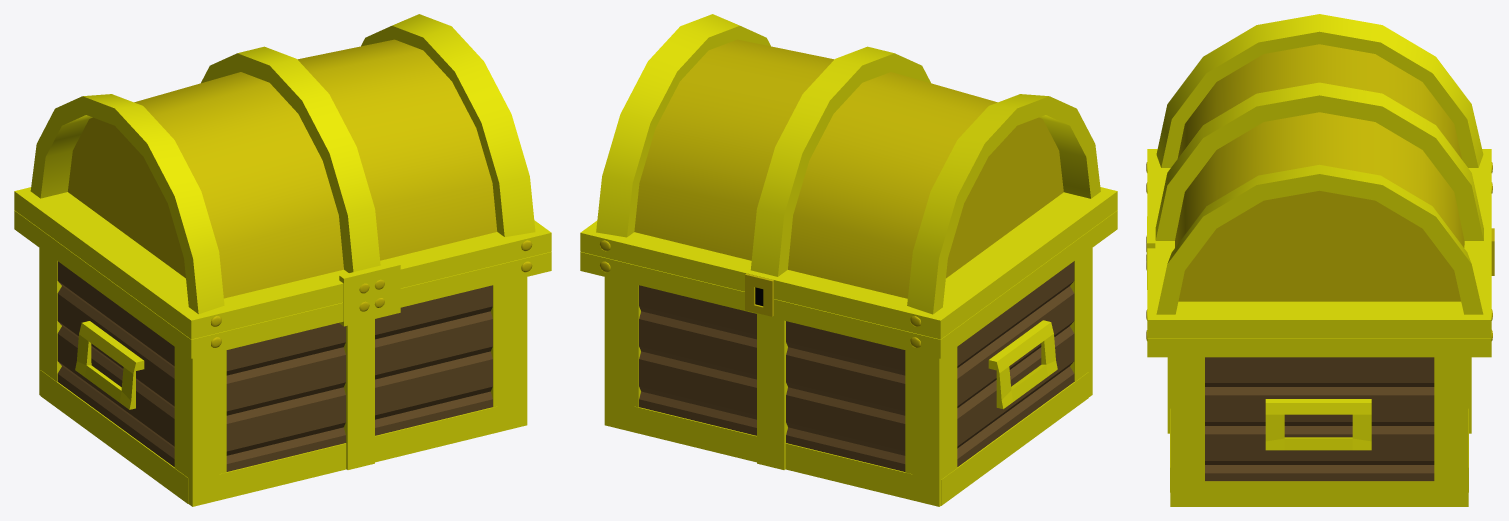
Rendered from sunduk.fbx.
3 renders of one model, left to right at view 1: azimuth 30°, elevation 25°; view 2: azimuth 150°, elevation 25°; view 3: azimuth 270°, elevation 25°, orthographic. The views are drawn at different scales.
Visible parts, largest first — view 1: Icosphere; view 2: Icosphere; view 3: Icosphere.
Part boxes in pixels (bbox=[...]): Icosphere: bbox=[14, 14, 551, 506]; Icosphere: bbox=[580, 14, 1117, 506]; Icosphere: bbox=[1146, 14, 1494, 506].
Bounding box in the file's own units: 279 × 256 × 239.
